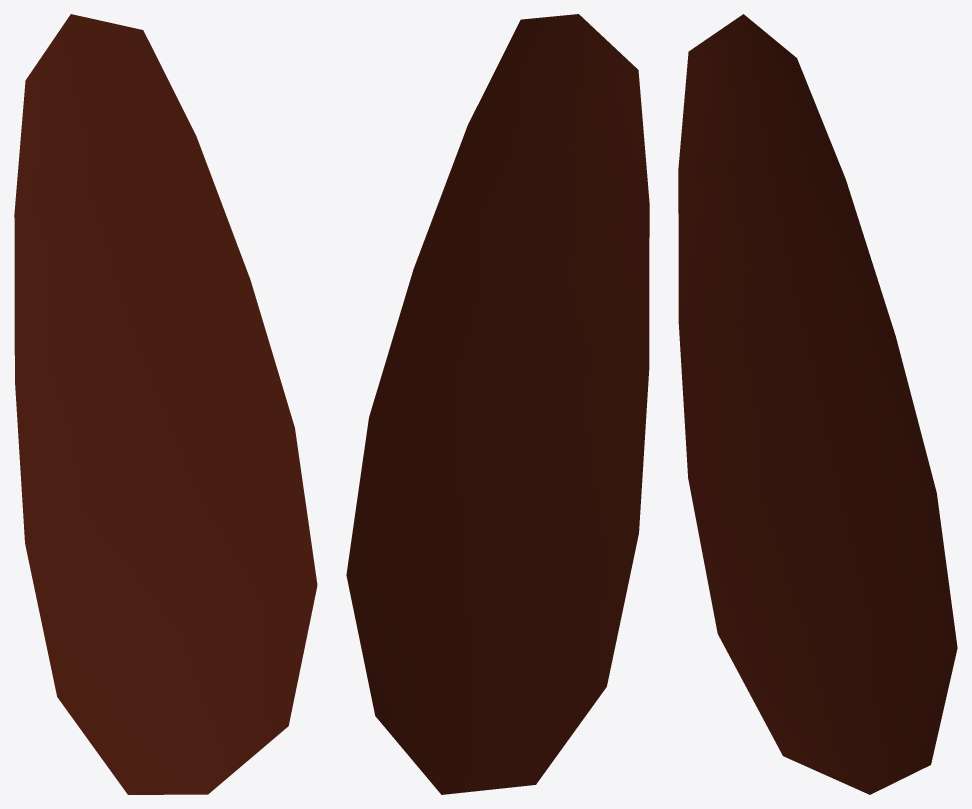
Rendered from finch_feather_flight_tertiary_047.obj.
3 renders of one model, left to right at view 1: azimuth 30°, elevation 25°; view 2: azimuth 150°, elevation 25°; view 3: azimuth 330°, elevation 25°, orthographic. The views are drawn at different scales.
Parts seen in each view (by area): view 1: feather_flight_tertiary_047; view 2: feather_flight_tertiary_047; view 3: feather_flight_tertiary_047.
Part boxes in pixels (left/top/right/bottom): feather_flight_tertiary_047: left=14, top=14, right=317, bottom=794; feather_flight_tertiary_047: left=346, top=14, right=649, bottom=794; feather_flight_tertiary_047: left=678, top=14, right=957, bottom=794.
Bounding box in the file's own units: 0.00373 × 0.00959 × 0.000153.
